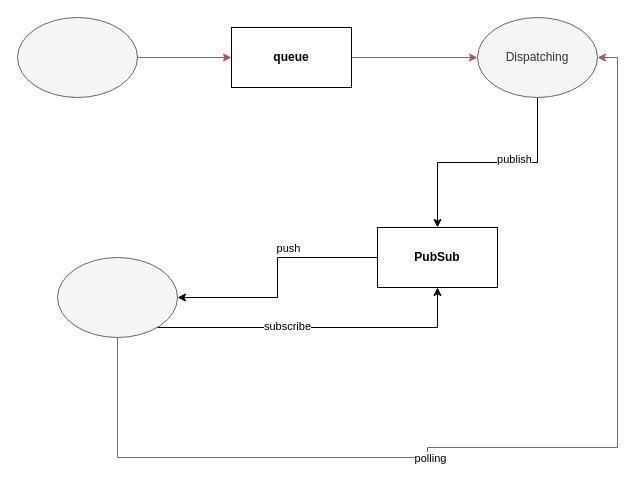
Image size: 643x483. Some labels were removed from this diagram. The shapes that lost their labels are listed below. From the top down, each one's box as (x1, y1, x2, y2) in pixels, then its label:
(16, 16, 138, 98): Service Request
(56, 256, 178, 338): Service Provider
